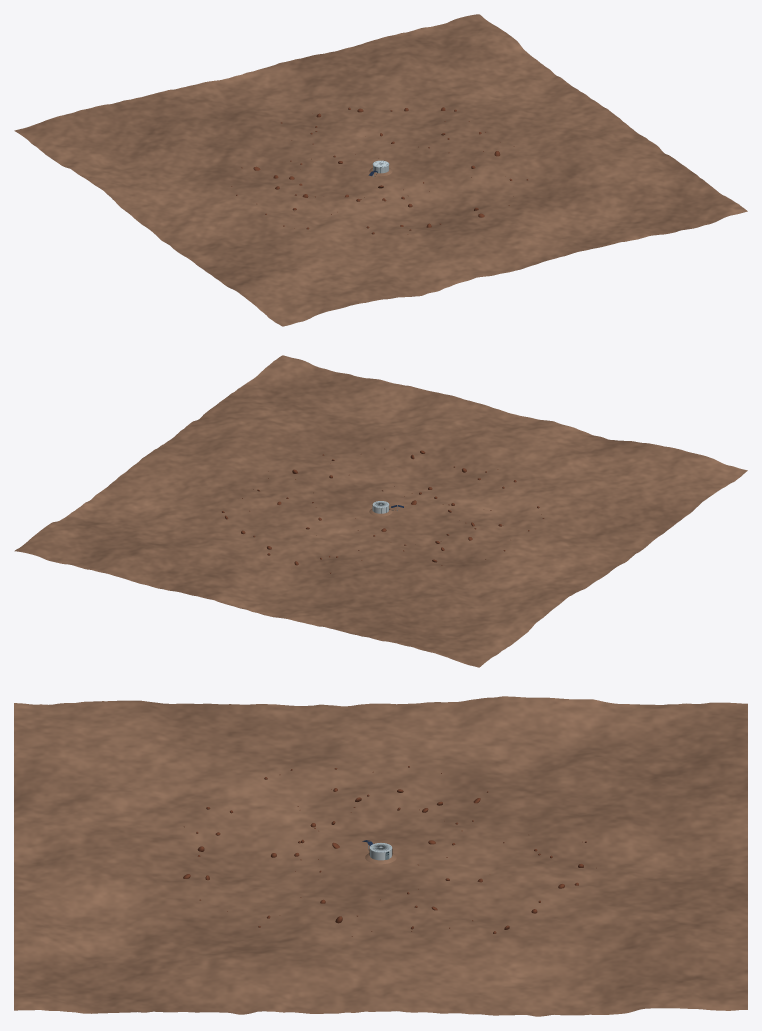
File: MILPA360-EXTERIOR-V4.glb
The picture shows the model from 3 angles, top to bottom: view 1: azimuth 30°, elevation 25°; view 2: azimuth 150°, elevation 25°; view 3: azimuth 270°, elevation 25°; orthographic projection. The views are drawn at different scales.
Parts seen in each view (by area): view 1: terreno; view 2: terreno; view 3: terreno.
Boxes of the visible parts, x1=… form: terreno: x1=14, y1=14, x2=747, y2=326; terreno: x1=14, y1=355, x2=747, y2=667; terreno: x1=14, y1=696, x2=747, y2=1016.
Size of the model in its own units: 150 by 4.08 by 150.
17 materials, 6 textured.
